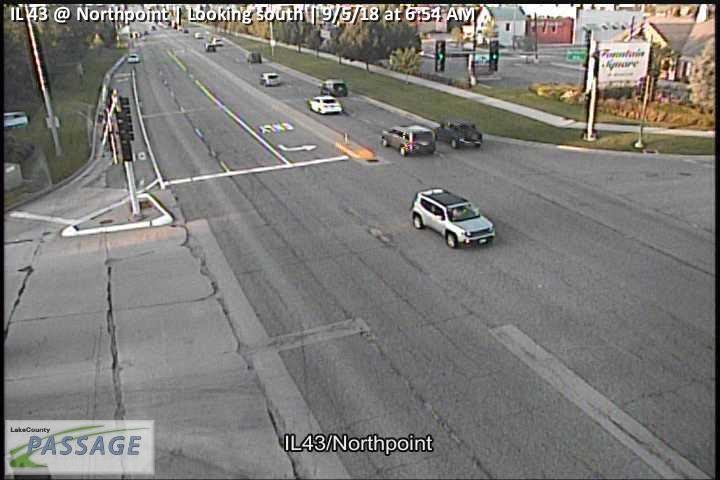SUV: (412, 188, 495, 247), (380, 125, 436, 157), (317, 78, 347, 97), (259, 71, 281, 87), (247, 51, 261, 63), (211, 38, 223, 46), (205, 42, 215, 51)
Sedan: (435, 120, 483, 151), (307, 94, 343, 115), (127, 52, 139, 62)
